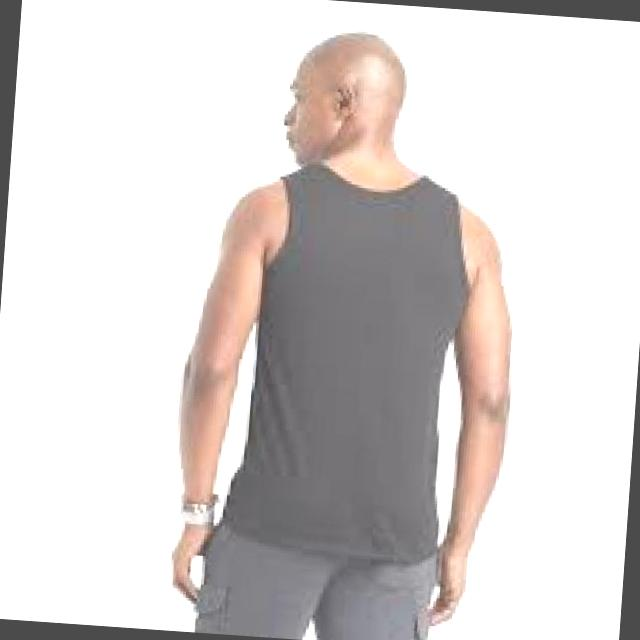no_vest: (221, 150, 480, 565)
